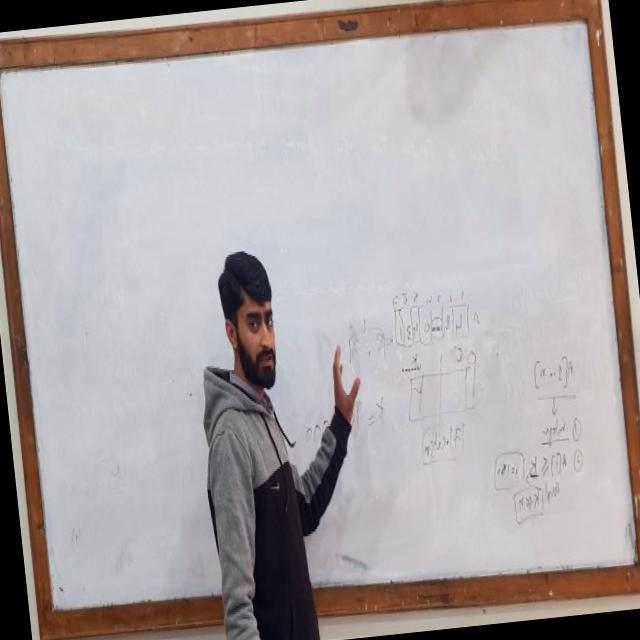Instructor: (180, 232, 331, 640)
White-board: (0, 6, 640, 633)
